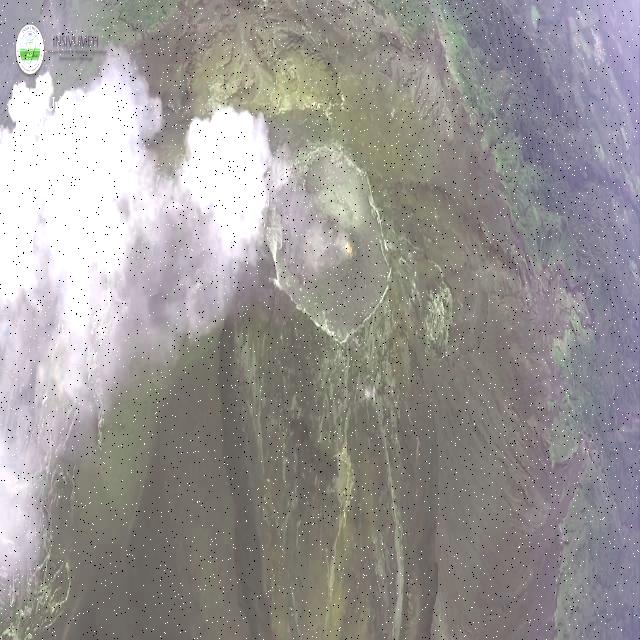Plume: (0, 60, 278, 600)
Summit: (238, 129, 411, 361)
